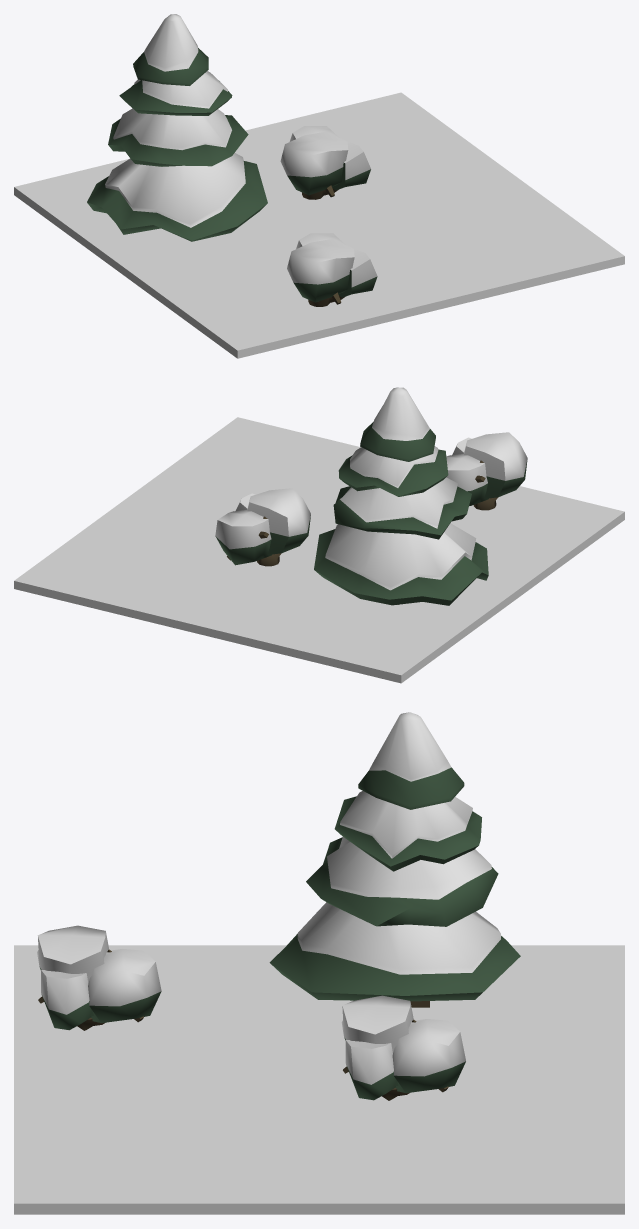
Rendered from plants_1.glb.
3 views of the same model, one above another, from view 1: azimuth 30°, elevation 25°; view 2: azimuth 150°, elevation 25°; view 3: azimuth 270°, elevation 25° (orthographic). The views are drawn at different scales.
Visible parts, largest first — view 1: plants_1; view 2: plants_1; view 3: plants_1.
Part boxes in pixels (left/top/right/bottom): plants_1: left=14, top=14, right=624, bottom=358; plants_1: left=14, top=387, right=624, bottom=683; plants_1: left=14, top=712, right=624, bottom=1214.
Size of the model in its own units: 2 by 1.1 by 2.
